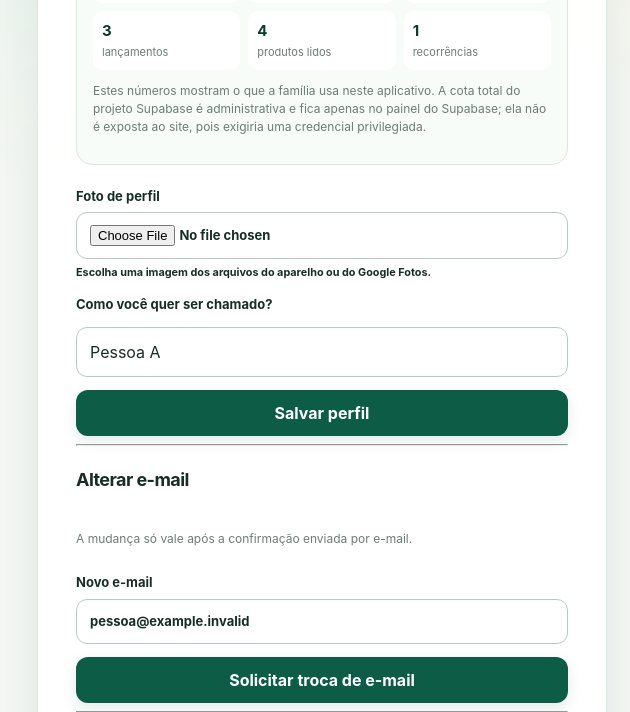
it: acesso privado › salva perfil do usuário atual após revalidar o acesso
(page scrolled)
Replace the text in the field labelled "Como você quer ser chamado?" with "Novo nome" at point(322, 352), box [76,327,568,377]
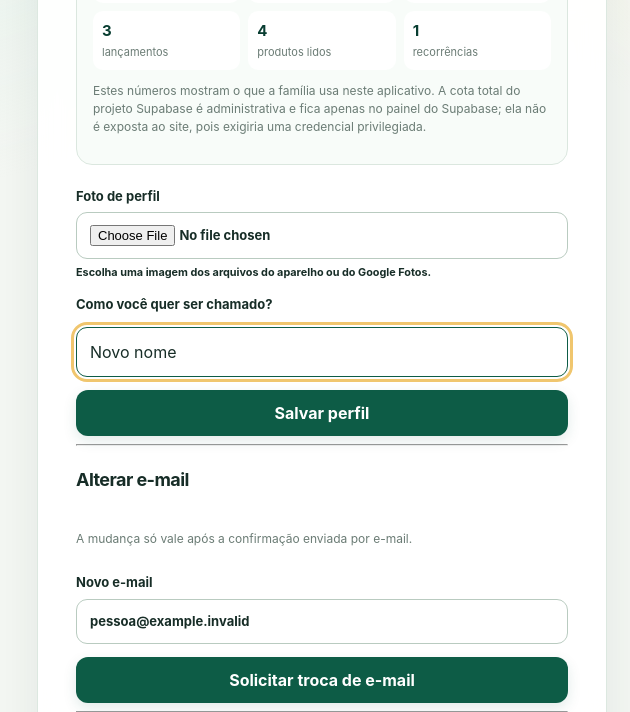
Click the button "Salvar perfil" at point(322, 413), box [76,390,568,436]
(page scrolled)
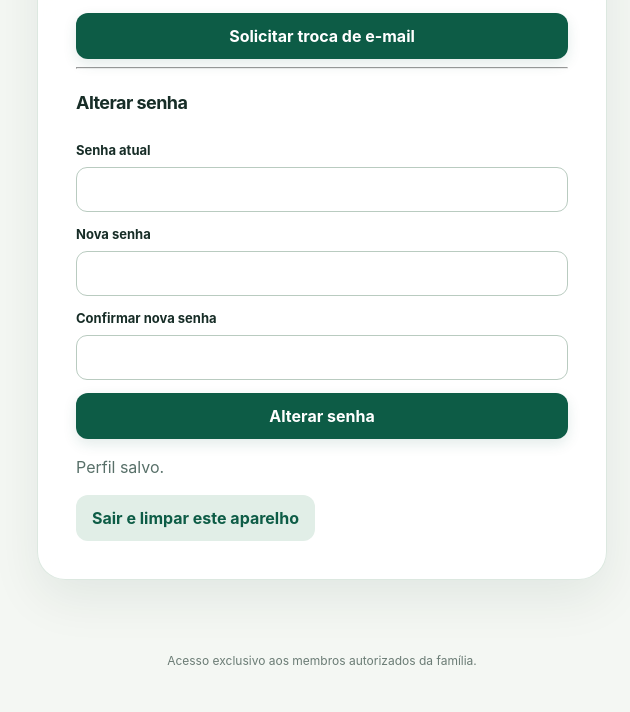
Check: the text "Perfil salvo." is shown, box [76,457,164,477]
